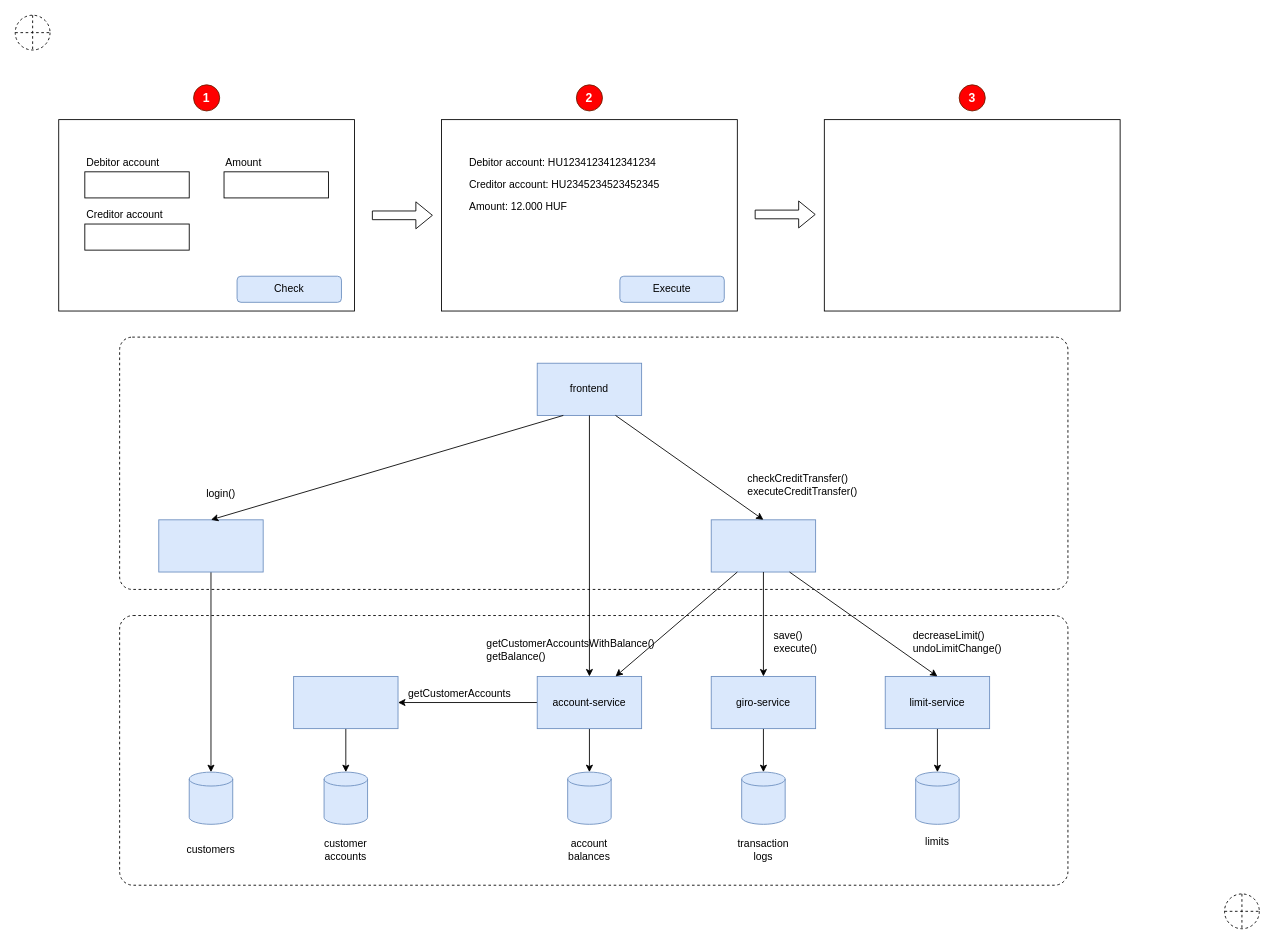
This 1275x944 diagram has some shape labels left out. The shapes that lost their labels are listed below. From the top down, each one's centre as x and y in pixels, then its label:
At pixel 971 215: "Success!".
At pixel 210 545: "auth-service".
At pixel 763 545: "credit-transfer-service".
At pixel 345 702: "contract-service".
